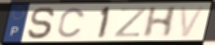1: (96, 5, 112, 40)
C: (56, 7, 87, 40)
H: (141, 5, 180, 39)
S: (26, 6, 58, 40)
V: (179, 5, 208, 39)
Z: (113, 6, 149, 38)
